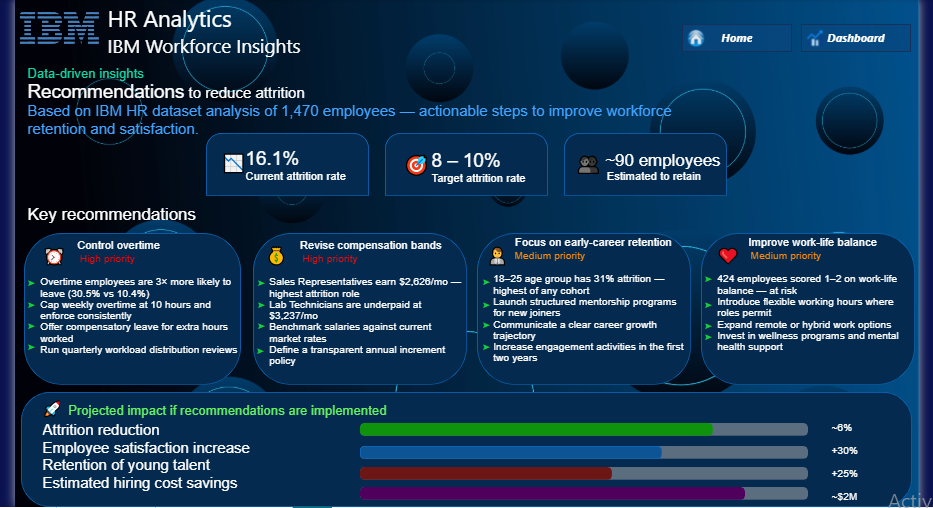

What the dashboard file says about the page in this screenshot:
{"tool":"powerbi","page":{"name":"Recommendation","canvas":[1280,720],"ordinal":2},"visuals":[{"type":"actionButton","box":[1114,35.4,155.9,39.7],"z":0},{"type":"actionButton","box":[945.4,35.4,155.9,39.7],"z":1000},{"type":"image","box":[0,0,136.1,89.3],"z":2000},{"type":"textbox","box":[126.1,0,337.3,89.3],"z":3000},{"type":"textbox","box":[12.8,89.3,976.5,136.1],"z":4000},{"type":"shape","box":[270.7,189.9,231,89.3],"z":5000},{"type":"shape","box":[778.1,189.9,231,89.3],"z":6000},{"type":"shape","box":[524.4,189.9,231,89.3],"z":7000},{"type":"textbox","box":[321.7,189.9,180,96.4],"z":8000},{"type":"textbox","box":[585.4,192.8,170.1,129],"z":9000},{"type":"textbox","box":[824.9,192.8,184.3,99.2],"z":10000},{"type":"textbox","box":[12.8,286.3,258,45.4],"z":11000},{"type":"shape","box":[12.8,331.7,307.6,215.4],"z":12000},{"type":"shape","box":[654.8,331.7,303.3,215.4],"z":13000},{"type":"shape","box":[337.3,331.7,303.3,215.4],"z":14000},{"type":"shape","box":[972.3,331.7,303.3,215.4],"z":15000},{"type":"textbox","box":[12.8,331.7,307.6,215.4],"z":16000},{"type":"textbox","box":[337.3,331.7,303.3,215.4],"z":17000},{"type":"textbox","box":[654.8,331.7,303.3,215.4],"z":18000},{"type":"textbox","box":[972.3,331.7,303.3,215.4],"z":19000},{"type":"shape","box":[8.5,557,1262.8,163],"z":20000},{"type":"textbox","box":[34,566.9,575.4,52.4],"z":21000},{"type":"textbox","box":[34,593.9,337.3,126.1],"z":22000},{"type":"shape","box":[489,600.9,635,18.4],"z":23000},{"type":"shape","box":[489,633.5,635,18.4],"z":24000},{"type":"shape","box":[489,663.3,635,18.4],"z":25000},{"type":"shape","box":[489,691.7,635,18.4],"z":26000},{"type":"shape","box":[489,600.9,500.3,18.4],"z":27000},{"type":"shape","box":[489,633.5,428,18.4],"z":28000},{"type":"shape","box":[489,691.7,545.7,18.4],"z":29000},{"type":"shape","box":[489,663.3,357.2,18.4],"z":30000},{"type":"textbox","box":[1152.3,593.9,127.6,35.4],"z":31000},{"type":"textbox","box":[1152.3,626.9,127.6,34],"z":32000},{"type":"textbox","box":[1152.3,658.6,127.6,35.4],"z":33000},{"type":"textbox","box":[1152.3,691.7,127.6,28.3],"z":34000},{"type":"textbox","box":[287.7,208.3,49.6,52.4],"z":35000},{"type":"textbox","box":[545.7,211.2,49.6,52.4],"z":36000},{"type":"textbox","box":[789.4,208.3,56.7,52.4],"z":37000},{"type":"textbox","box":[34,341.6,53.9,46.8],"z":38000},{"type":"textbox","box":[351.5,341.6,58.1,46.8],"z":39000},{"type":"textbox","box":[664.7,341.6,51,46.8],"z":40000},{"type":"textbox","box":[989.3,341.6,68,46.8],"z":41000},{"type":"textbox","box":[34,559.8,34,41.1],"z":42000},{"type":"textbox","box":[972.3,464.9,24.1,28.3],"z":43000},{"type":"textbox","box":[972.3,449.3,28.3,29.8],"z":44000},{"type":"textbox","box":[972.3,419.5,28.3,29.8],"z":45000},{"type":"textbox","box":[972.3,382.7,28.3,36.9],"z":46000},{"type":"textbox","box":[657.6,479.1,25.5,28.3],"z":47000},{"type":"textbox","box":[657.6,447.9,35.4,31.2],"z":48000},{"type":"textbox","box":[657.6,419.5,32.6,28.3],"z":49000},{"type":"textbox","box":[657.6,386.9,24.1,32.6],"z":50000},{"type":"textbox","box":[337.3,484.7,34,32.6],"z":51000},{"type":"textbox","box":[338.7,449.3,32.6,29.8],"z":52000},{"type":"textbox","box":[338.7,419.5,32.6,29.8],"z":53000},{"type":"textbox","box":[338.7,388.3,32.6,31.2],"z":54000},{"type":"textbox","box":[12.8,479.1,21.3,28.3],"z":55000},{"type":"textbox","box":[12.8,449.3,21.3,29.8],"z":56000},{"type":"textbox","box":[12.8,419.5,21.3,29.8],"z":57000},{"type":"textbox","box":[12.8,388.3,34,31.2],"z":58000}]}

Visuals, with their boxes on the page's 1280x720 design canvas (x1, y1, x2, y2). These are canvas units, not pixel positions in the 933x508 screenshot, which may show the page scaled, cropped or inside an application window:
actionButton: {"left": 1114, "top": 35, "right": 1270, "bottom": 75}
actionButton: {"left": 945, "top": 35, "right": 1101, "bottom": 75}
image: {"left": 0, "top": 0, "right": 136, "bottom": 89}
textbox: {"left": 126, "top": 0, "right": 463, "bottom": 89}
textbox: {"left": 13, "top": 89, "right": 989, "bottom": 225}
shape: {"left": 271, "top": 190, "right": 502, "bottom": 279}
shape: {"left": 778, "top": 190, "right": 1009, "bottom": 279}
shape: {"left": 524, "top": 190, "right": 755, "bottom": 279}
textbox: {"left": 322, "top": 190, "right": 502, "bottom": 286}
textbox: {"left": 585, "top": 193, "right": 756, "bottom": 322}
textbox: {"left": 825, "top": 193, "right": 1009, "bottom": 292}
textbox: {"left": 13, "top": 286, "right": 271, "bottom": 332}
shape: {"left": 13, "top": 332, "right": 320, "bottom": 547}
shape: {"left": 655, "top": 332, "right": 958, "bottom": 547}
shape: {"left": 337, "top": 332, "right": 641, "bottom": 547}
shape: {"left": 972, "top": 332, "right": 1276, "bottom": 547}
textbox: {"left": 13, "top": 332, "right": 320, "bottom": 547}
textbox: {"left": 337, "top": 332, "right": 641, "bottom": 547}
textbox: {"left": 655, "top": 332, "right": 958, "bottom": 547}
textbox: {"left": 972, "top": 332, "right": 1276, "bottom": 547}
shape: {"left": 8, "top": 557, "right": 1271, "bottom": 720}
textbox: {"left": 34, "top": 567, "right": 609, "bottom": 619}
textbox: {"left": 34, "top": 594, "right": 371, "bottom": 720}
shape: {"left": 489, "top": 601, "right": 1124, "bottom": 619}
shape: {"left": 489, "top": 634, "right": 1124, "bottom": 652}
shape: {"left": 489, "top": 663, "right": 1124, "bottom": 682}
shape: {"left": 489, "top": 692, "right": 1124, "bottom": 710}
shape: {"left": 489, "top": 601, "right": 989, "bottom": 619}
shape: {"left": 489, "top": 634, "right": 917, "bottom": 652}
shape: {"left": 489, "top": 692, "right": 1035, "bottom": 710}
shape: {"left": 489, "top": 663, "right": 846, "bottom": 682}
textbox: {"left": 1152, "top": 594, "right": 1280, "bottom": 629}
textbox: {"left": 1152, "top": 627, "right": 1280, "bottom": 661}
textbox: {"left": 1152, "top": 659, "right": 1280, "bottom": 694}
textbox: {"left": 1152, "top": 692, "right": 1280, "bottom": 720}
textbox: {"left": 288, "top": 208, "right": 337, "bottom": 261}
textbox: {"left": 546, "top": 211, "right": 595, "bottom": 264}
textbox: {"left": 789, "top": 208, "right": 846, "bottom": 261}
textbox: {"left": 34, "top": 342, "right": 88, "bottom": 388}
textbox: {"left": 352, "top": 342, "right": 410, "bottom": 388}
textbox: {"left": 665, "top": 342, "right": 716, "bottom": 388}
textbox: {"left": 989, "top": 342, "right": 1057, "bottom": 388}
textbox: {"left": 34, "top": 560, "right": 68, "bottom": 601}
textbox: {"left": 972, "top": 465, "right": 996, "bottom": 493}
textbox: {"left": 972, "top": 449, "right": 1001, "bottom": 479}
textbox: {"left": 972, "top": 420, "right": 1001, "bottom": 449}
textbox: {"left": 972, "top": 383, "right": 1001, "bottom": 420}
textbox: {"left": 658, "top": 479, "right": 683, "bottom": 507}
textbox: {"left": 658, "top": 448, "right": 693, "bottom": 479}
textbox: {"left": 658, "top": 420, "right": 690, "bottom": 448}
textbox: {"left": 658, "top": 387, "right": 682, "bottom": 420}
textbox: {"left": 337, "top": 485, "right": 371, "bottom": 517}
textbox: {"left": 339, "top": 449, "right": 371, "bottom": 479}
textbox: {"left": 339, "top": 420, "right": 371, "bottom": 449}
textbox: {"left": 339, "top": 388, "right": 371, "bottom": 420}
textbox: {"left": 13, "top": 479, "right": 34, "bottom": 507}
textbox: {"left": 13, "top": 449, "right": 34, "bottom": 479}
textbox: {"left": 13, "top": 420, "right": 34, "bottom": 449}
textbox: {"left": 13, "top": 388, "right": 47, "bottom": 420}
